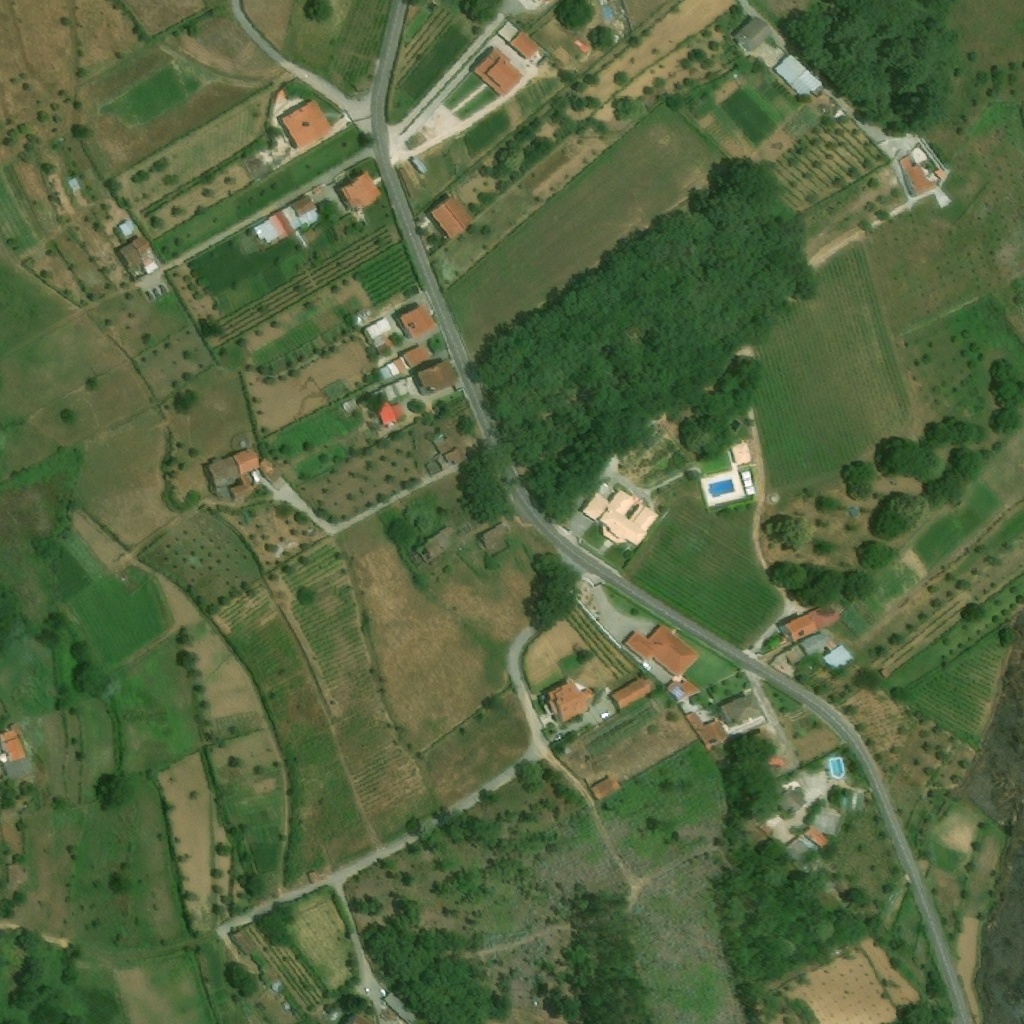0 no-damage: (579, 488, 660, 546), (622, 624, 701, 677), (783, 805, 845, 865), (254, 194, 321, 241), (278, 97, 334, 150), (209, 448, 284, 486), (899, 145, 949, 198), (472, 47, 525, 96), (780, 601, 841, 643), (773, 51, 825, 98), (425, 192, 475, 240), (376, 344, 433, 381), (334, 168, 384, 210), (115, 235, 160, 279), (412, 358, 461, 396), (425, 434, 468, 475), (546, 681, 590, 721), (720, 692, 765, 730), (606, 677, 652, 713), (685, 713, 728, 750), (396, 302, 438, 339), (420, 525, 461, 562), (782, 631, 827, 664), (736, 16, 775, 51), (477, 520, 511, 557), (384, 990, 419, 1023), (773, 785, 807, 817), (509, 29, 541, 60), (363, 316, 393, 349), (0, 728, 27, 764), (822, 643, 855, 670), (663, 680, 701, 702), (374, 399, 406, 425), (230, 927, 260, 954), (377, 377, 409, 401), (3, 756, 35, 780), (263, 964, 288, 993), (408, 166, 429, 196), (731, 440, 752, 466), (498, 20, 520, 44), (115, 219, 137, 241), (839, 790, 860, 812), (7, 861, 24, 884), (230, 483, 252, 500), (346, 1012, 374, 1023), (780, 778, 800, 793), (68, 176, 83, 192), (417, 163, 431, 179), (847, 504, 860, 518), (739, 469, 752, 480), (743, 478, 753, 489), (745, 487, 755, 497)
